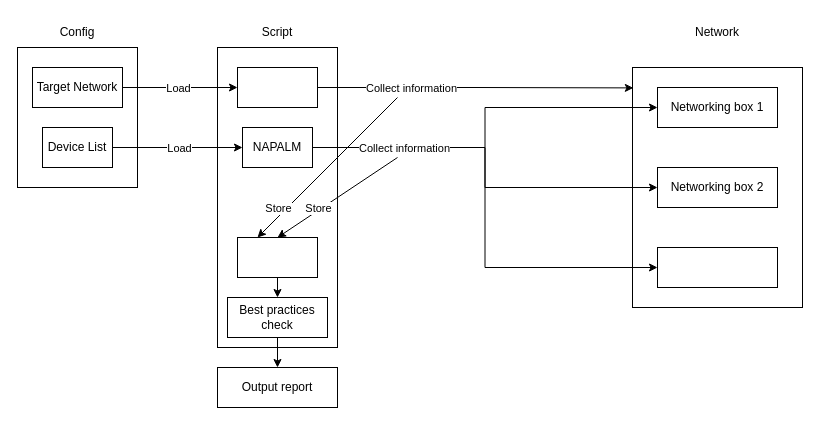
Some shapes in this 820 by 425 pixel diagram are drawn without their labels. The shapes that lost their labels are listed below. From the top down, each one's centre as x and y in pixels, then its label:
(277,87): NMAP
(277,257): Device info storage
(717,267): Networking box 3
